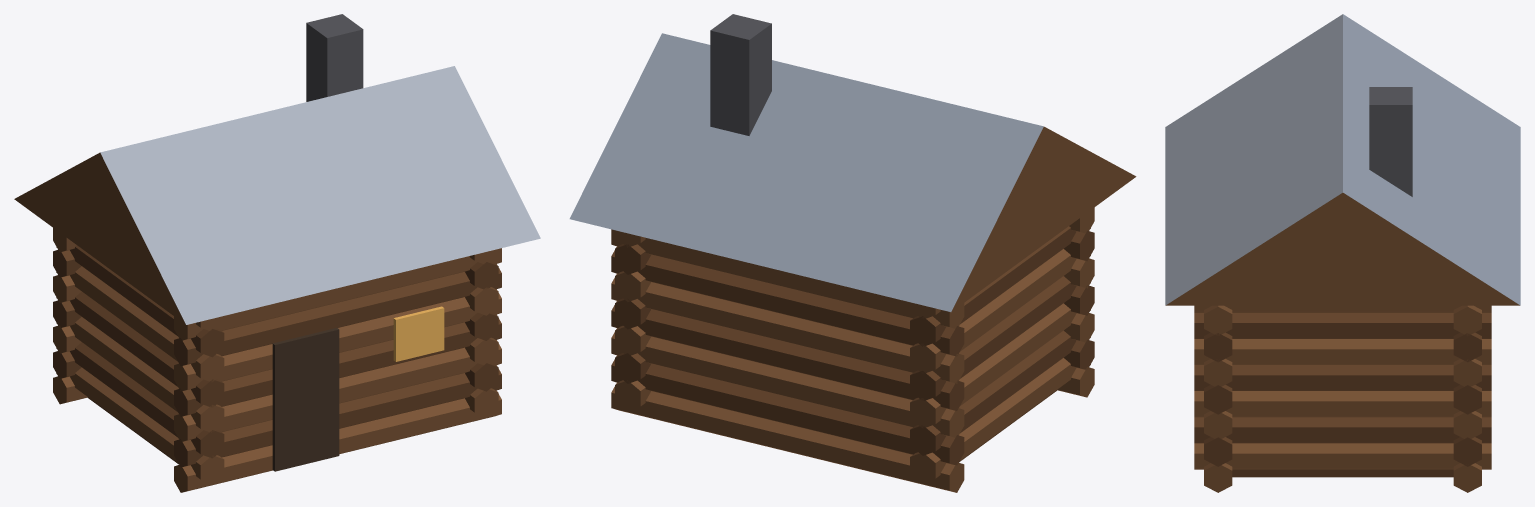
File: log_cabin.glb
3 views of the same model, side by side, from view 1: azimuth 30°, elevation 25°; view 2: azimuth 150°, elevation 25°; view 3: azimuth 270°, elevation 25° (orthographic). The views are drawn at different scales.
Visible parts, largest first — view 1: log_cabin2; view 2: log_cabin2; view 3: log_cabin2.
Boxes of the visible parts, x1,y1,x2,y2 form: log_cabin2: [14, 14, 540, 492]; log_cabin2: [569, 14, 1136, 492]; log_cabin2: [1165, 14, 1520, 492].
Bounding box in the file's own units: 4.4 × 4.12 × 3.7.
